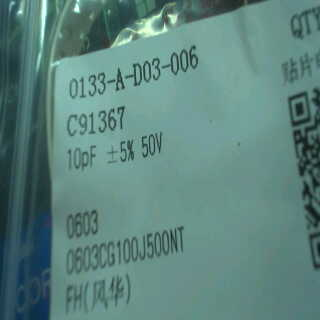10pF: (62, 143, 102, 174)
